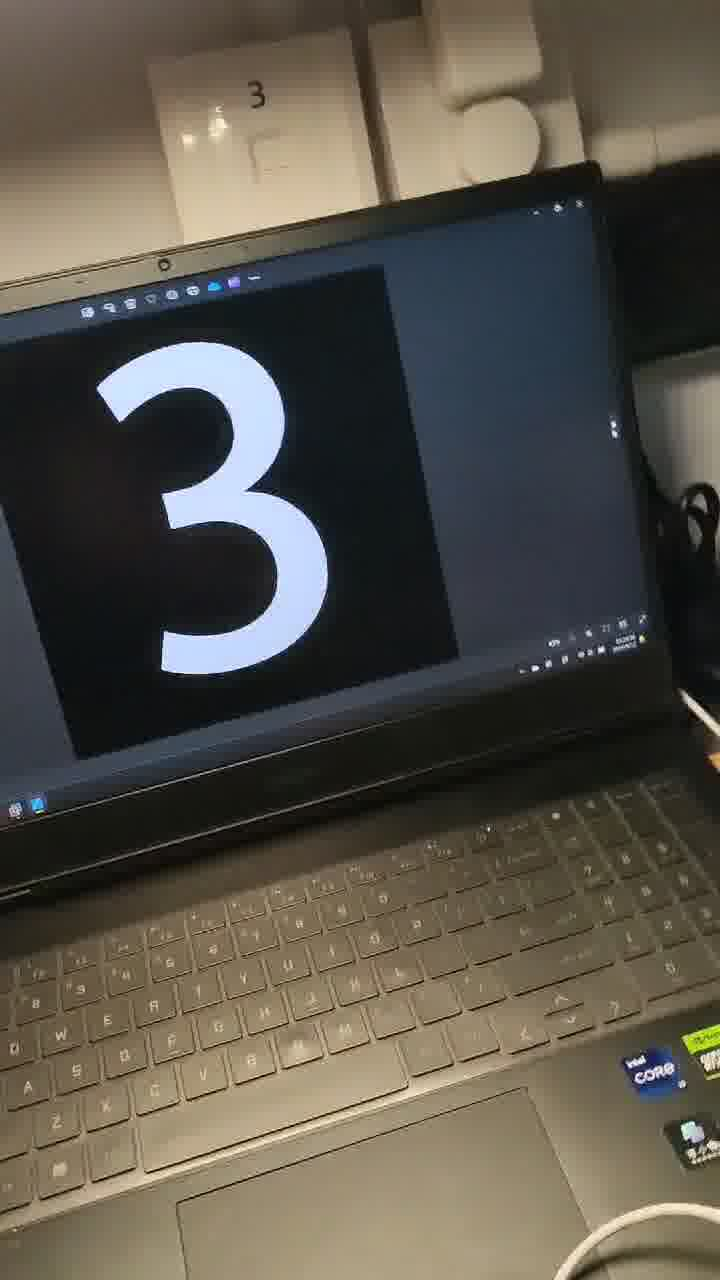three: (54, 317, 399, 797)
